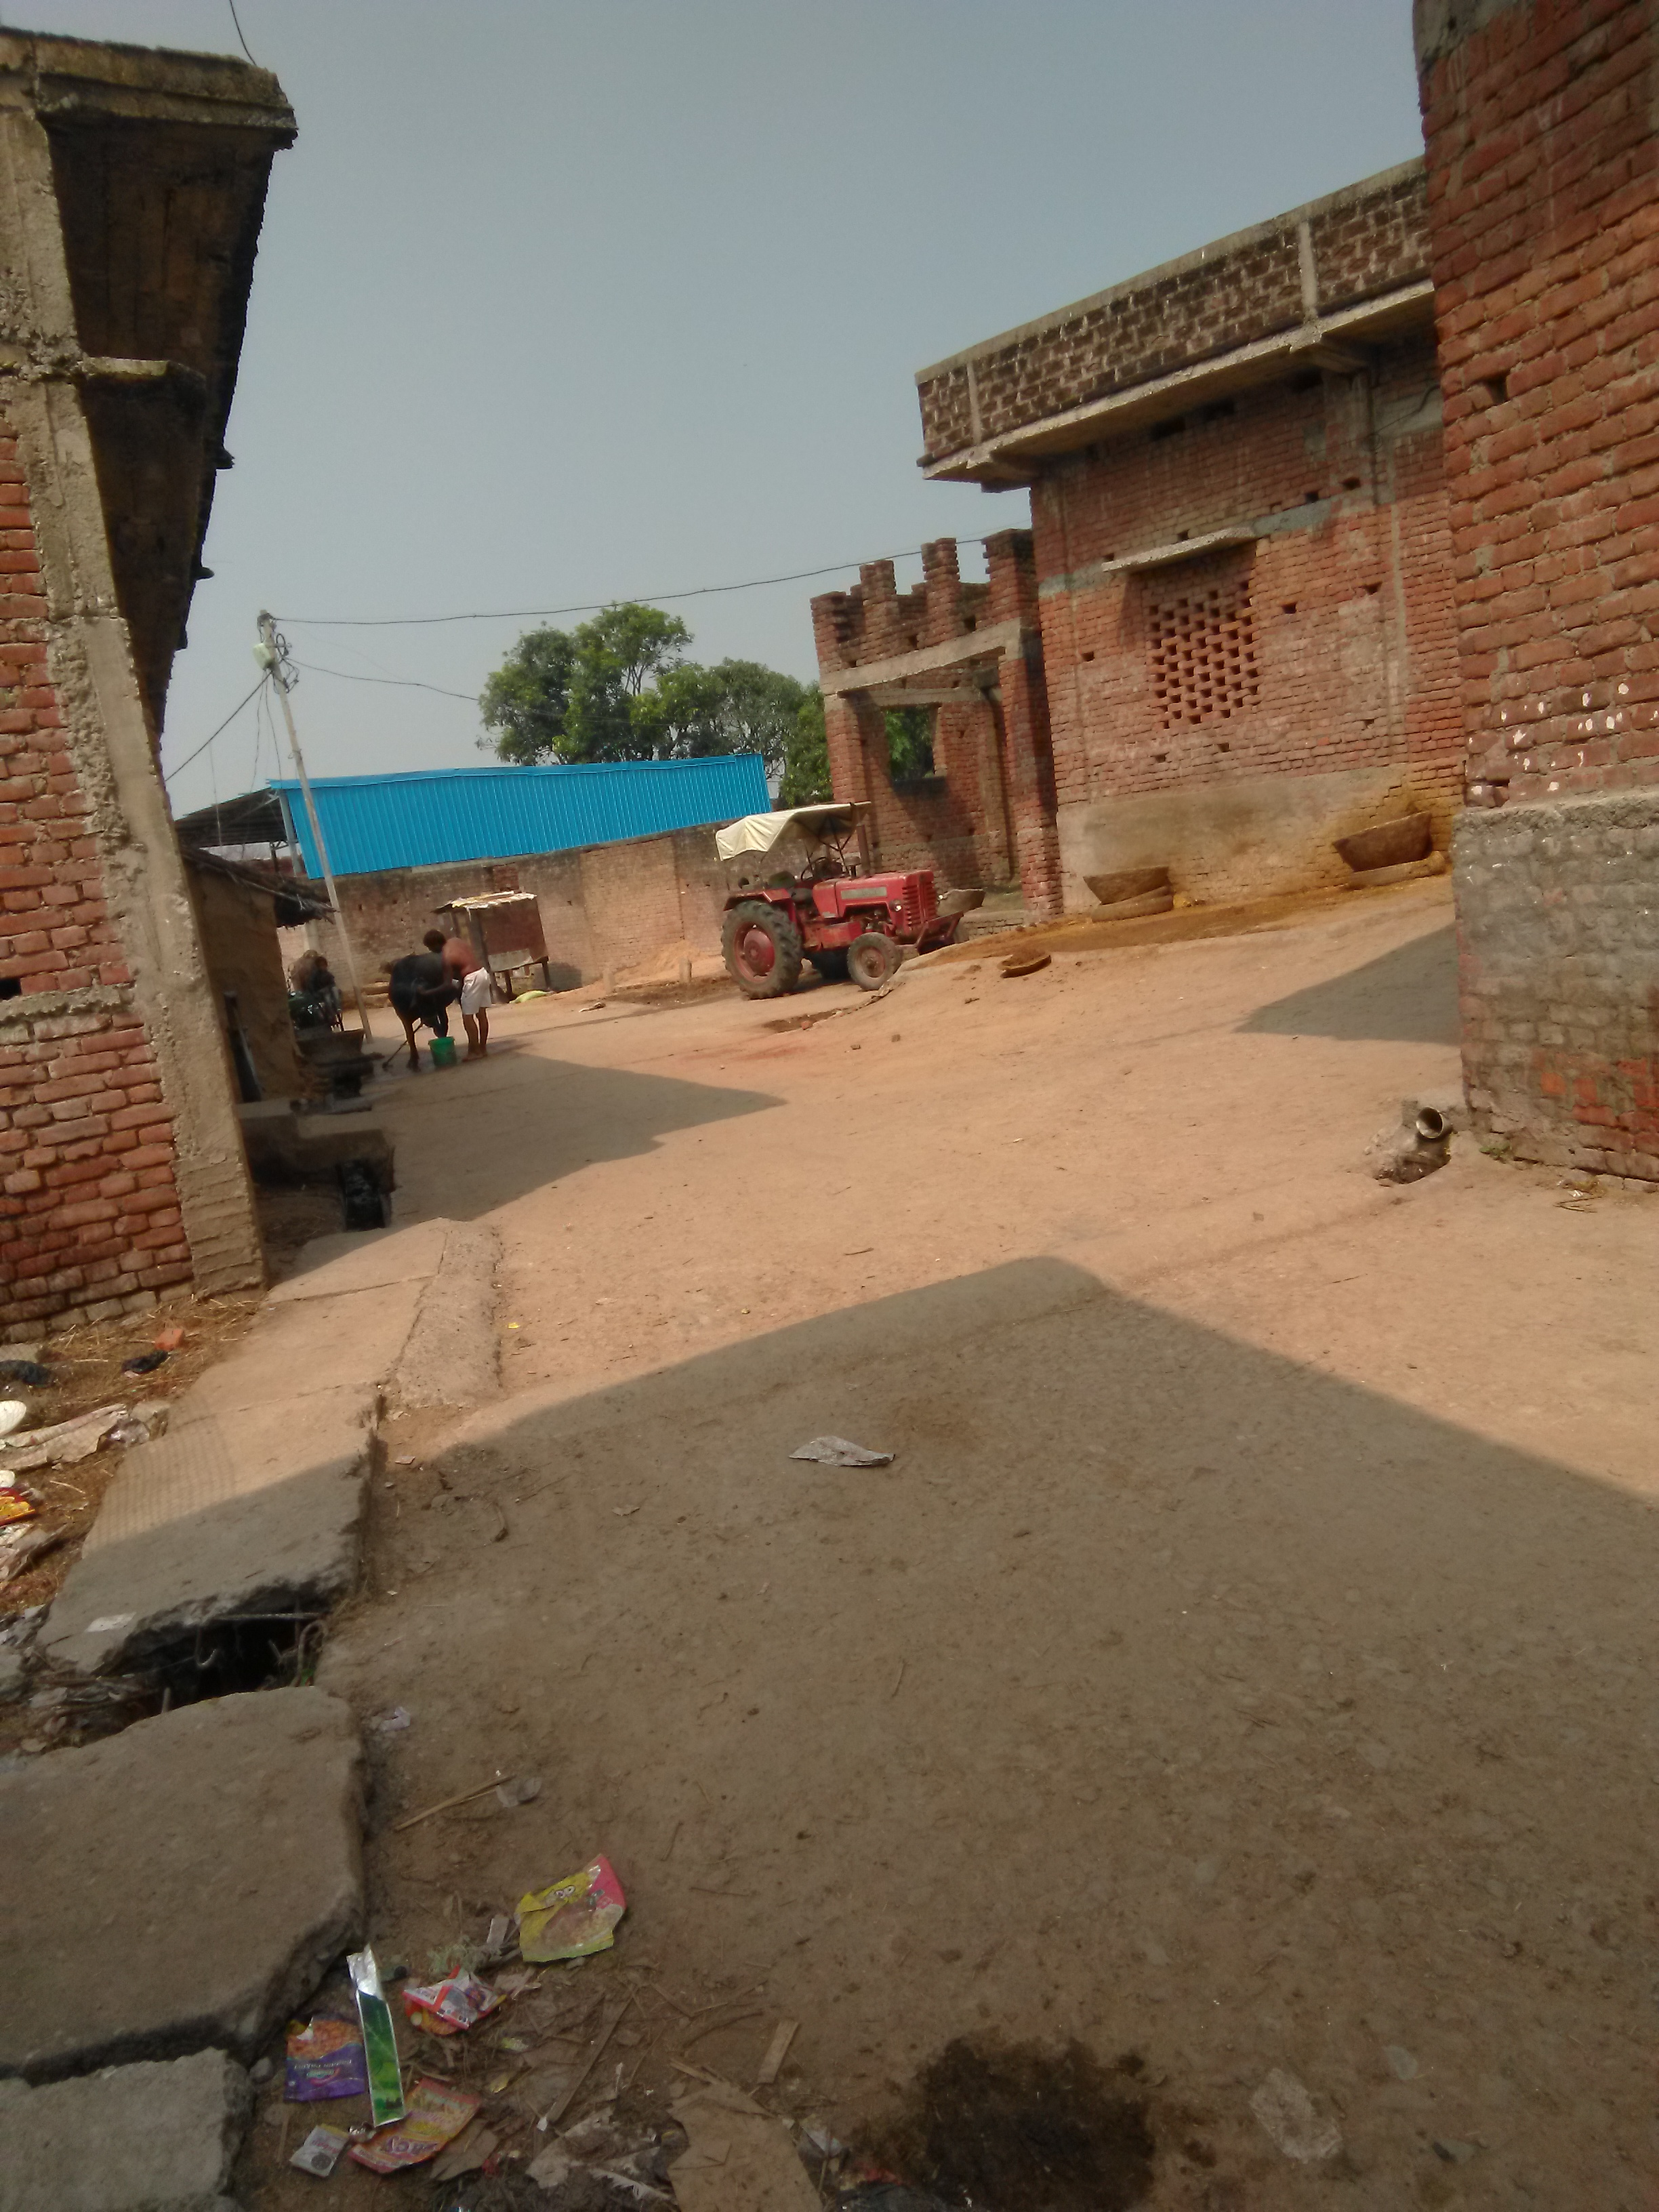tractor: (714, 799, 965, 1000)
